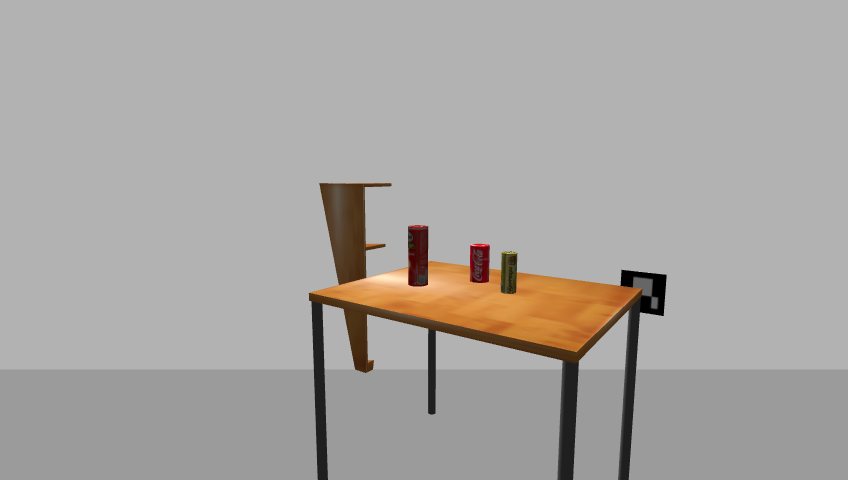aruco marker: (616, 268, 671, 318)
biscuits pack: (501, 251, 519, 295)
bookshelf: (317, 180, 395, 377)
coke can: (468, 243, 491, 285)
dinner table: (302, 263, 653, 480)
pringles can: (405, 225, 430, 288)
